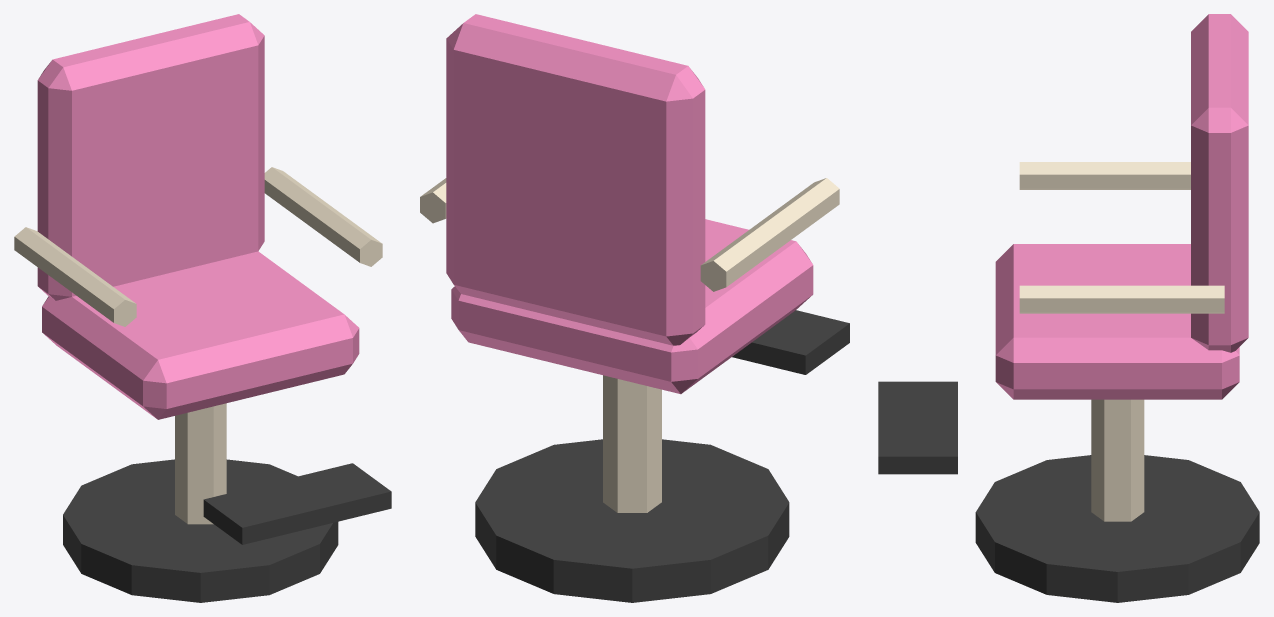
3 views of the same model, side by side, from view 1: azimuth 30°, elevation 25°; view 2: azimuth 150°, elevation 25°; view 3: azimuth 270°, elevation 25° (orthographic). The views are drawn at different scales.
Visible parts, largest first — view 1: Back, Seat, Base, Footrest, Hydraulic post, Arm, Arm.001; view 2: Back, Base, Seat, Hydraulic post, Arm, Footrest, Arm.001; view 3: Base, Seat, Back, Footrest, Hydraulic post, Arm.001, Arm.
Part boxes in pixels (box(x1,y1,x2,y2)): Back: box(37, 14, 264, 300); Seat: box(42, 251, 359, 419); Base: box(63, 459, 338, 602); Footrest: box(203, 463, 391, 544); Hydraulic post: box(175, 403, 226, 524); Arm: box(14, 227, 136, 326); Arm.001: box(264, 167, 382, 266); Back: box(446, 14, 705, 345); Base: box(475, 439, 789, 602); Seat: box(451, 219, 813, 394); Hydraulic post: box(603, 375, 661, 512); Arm: box(700, 178, 839, 291); Footrest: box(732, 310, 849, 374); Arm.001: box(420, 178, 446, 223); Base: box(975, 455, 1259, 602); Seat: box(995, 244, 1239, 399); Back: box(1191, 14, 1248, 352); Footrest: box(878, 381, 957, 474); Hydraulic post: box(1091, 399, 1144, 521); Arm.001: box(1019, 285, 1224, 313); Arm: box(1019, 162, 1190, 189).
Size of the model in its own units: 0.7206 by 1.2 by 0.86.
Materials: 1 (1 with a texture image).
